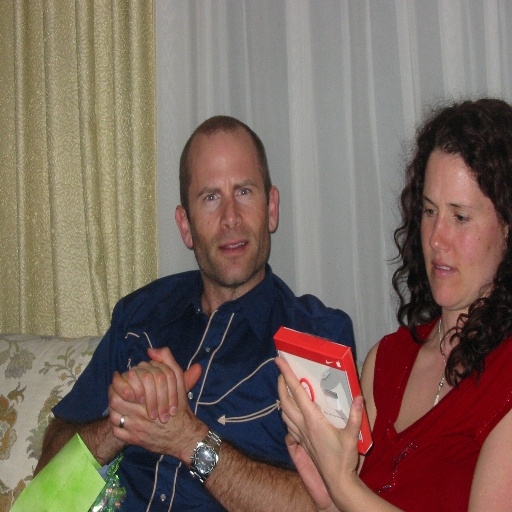hand: (272, 355, 364, 492), (120, 357, 201, 426), (282, 432, 335, 505)
